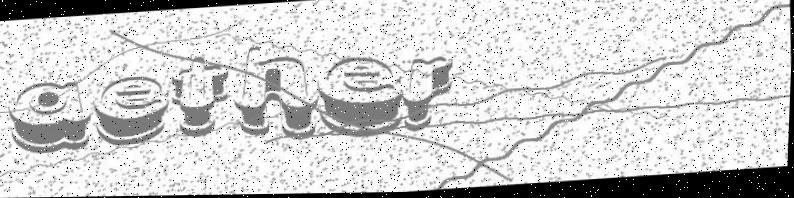a: (5, 78, 96, 156)
e: (313, 52, 408, 144), (90, 73, 171, 149)
h: (229, 41, 325, 145)
r: (399, 54, 458, 135)
t: (168, 54, 233, 140)
